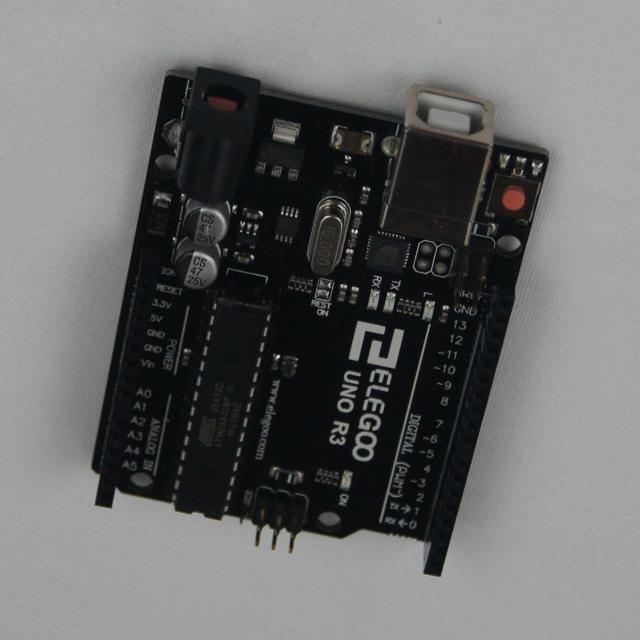Arduino Uno -Black-: (93, 69, 548, 576)
